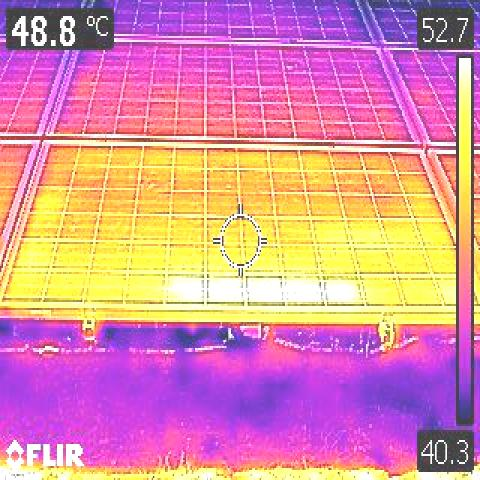fault: (170, 273, 361, 303)
